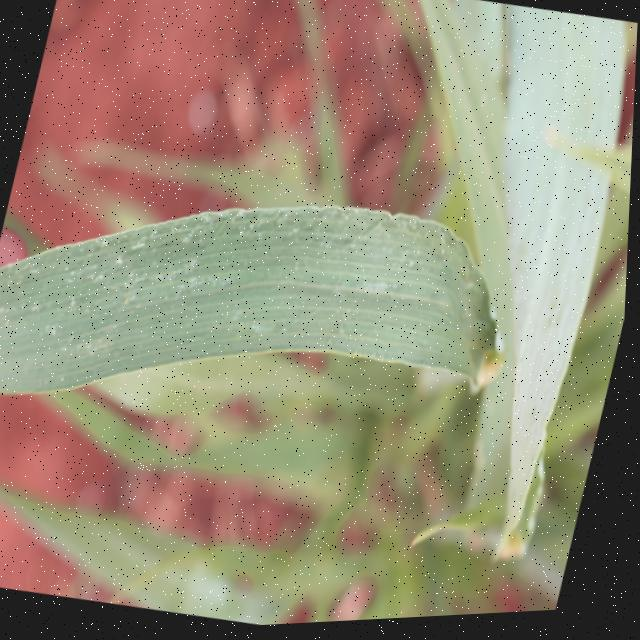healthy_wheat: (0, 82, 540, 504), (300, 0, 640, 574)
